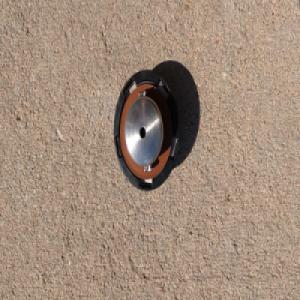FuelCap: (112, 67, 181, 193)
